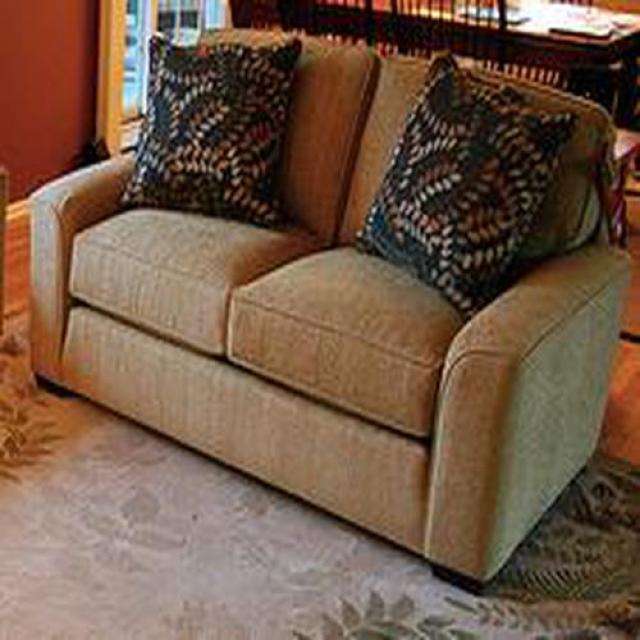sofa: (22, 29, 634, 590)
